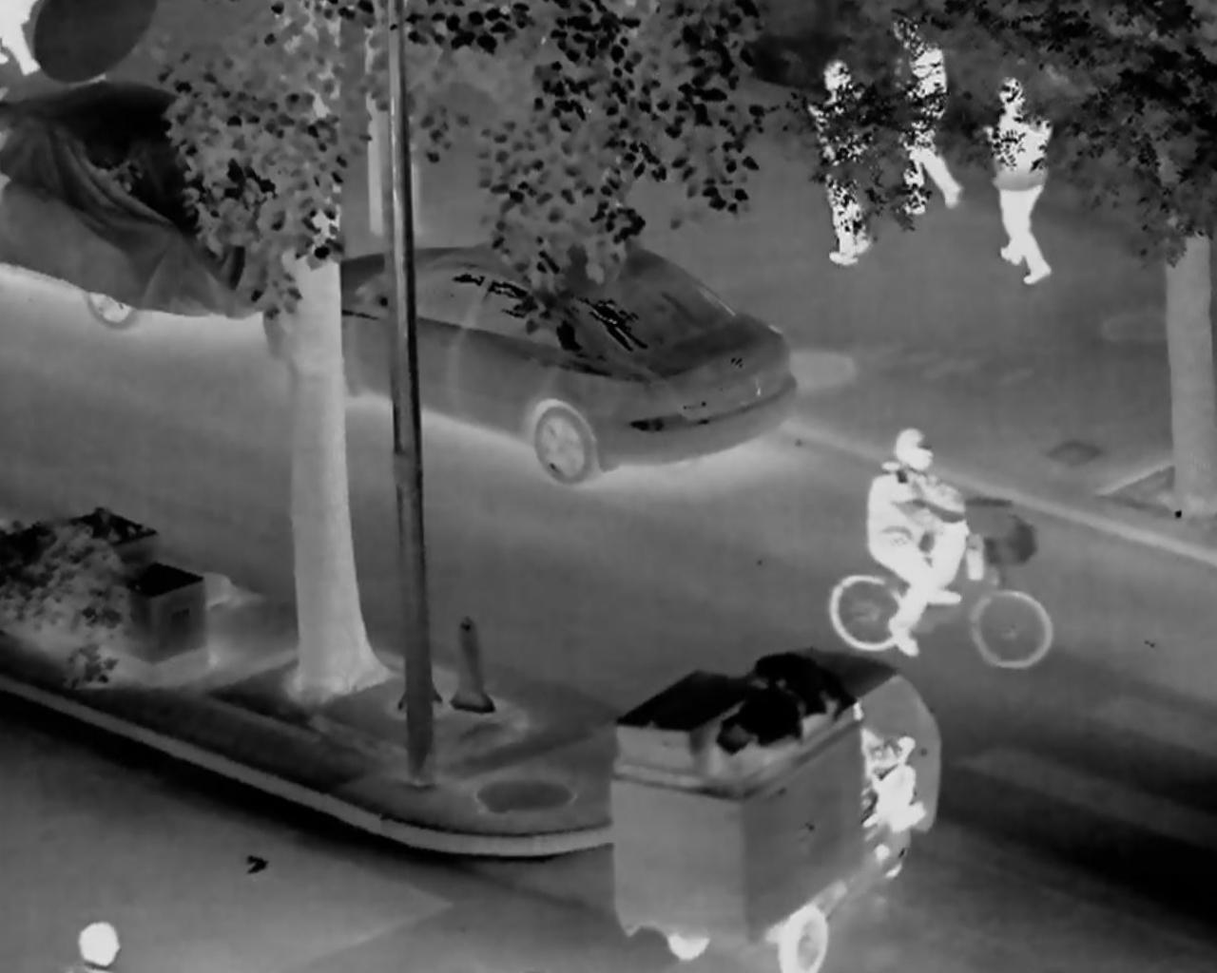person: (867, 427, 964, 654), (882, 8, 959, 219), (978, 79, 1052, 292), (807, 54, 871, 269), (830, 693, 930, 830)
